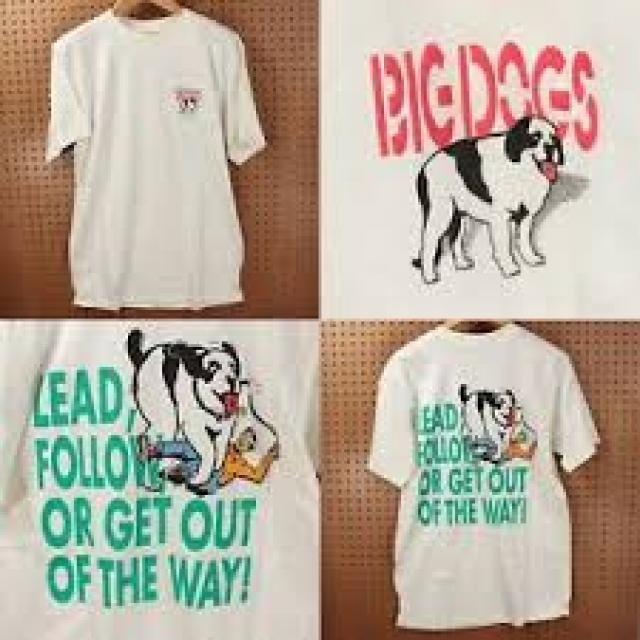Shirt: (354, 327, 608, 637), (35, 13, 282, 306)
